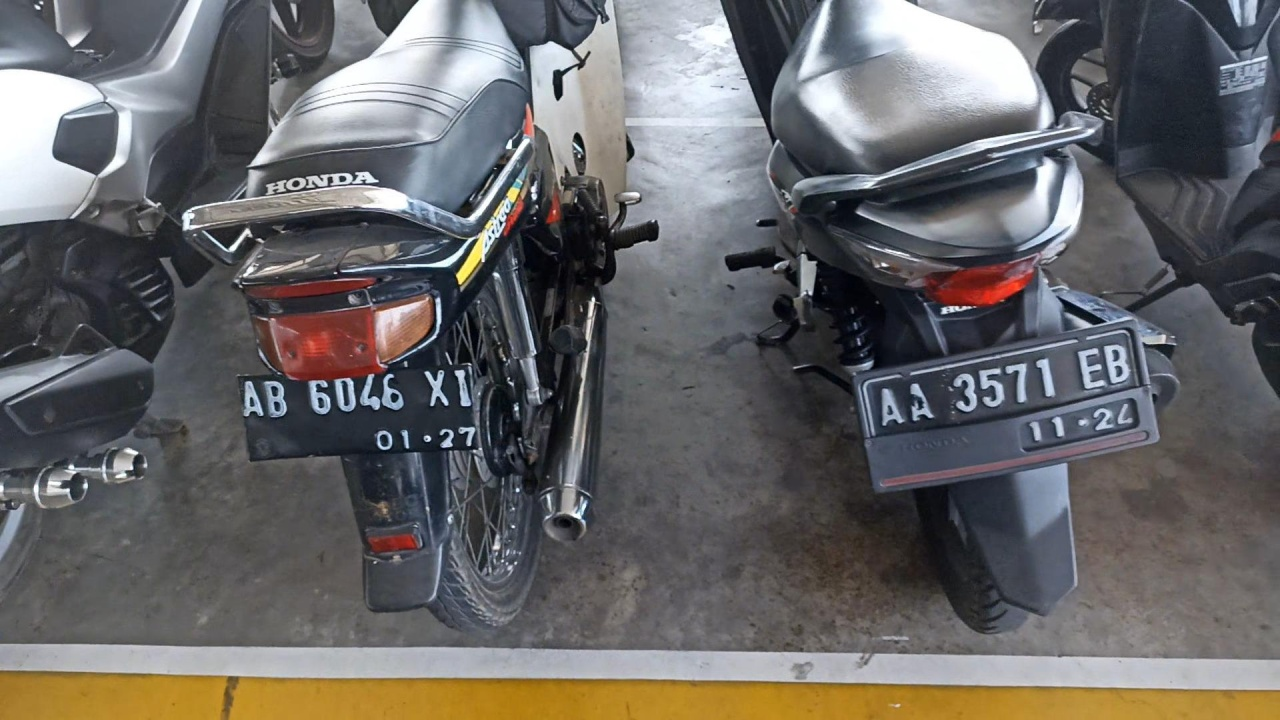plate: (857, 324, 1157, 494), (240, 365, 478, 462)
